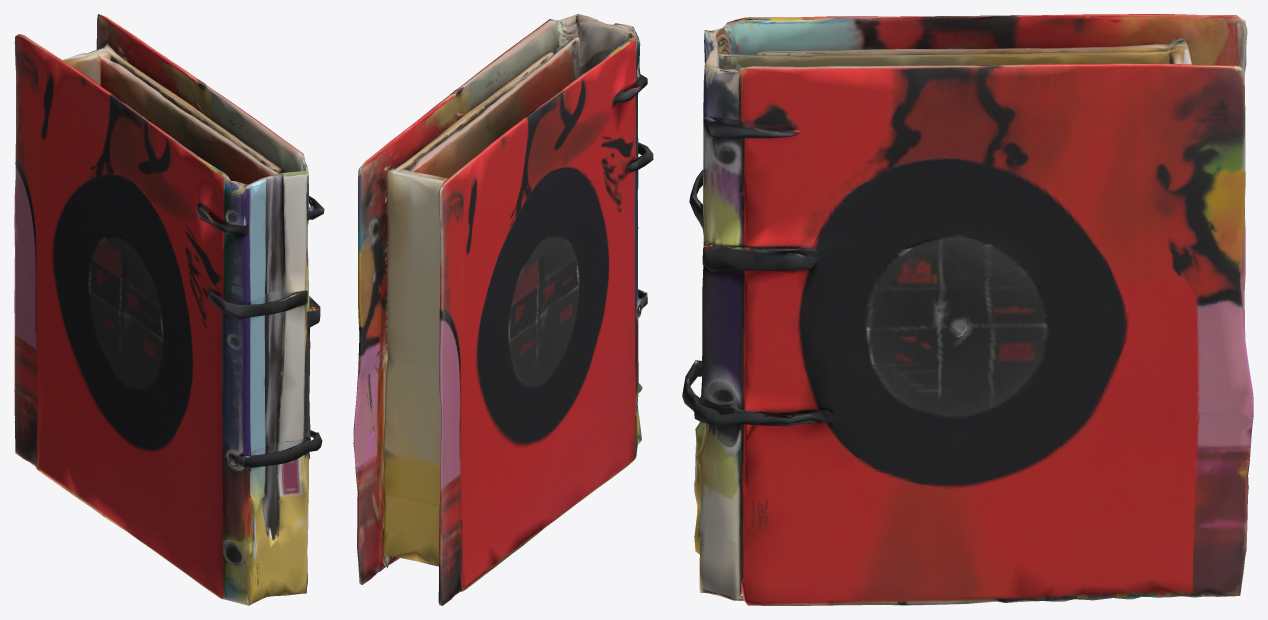
File: Vinyl_Art_Notebook_0523200443_texture.glb
The picture shows the model from 3 angles, left to right: view 1: azimuth 30°, elevation 25°; view 2: azimuth 150°, elevation 25°; view 3: azimuth 270°, elevation 25°; orthographic projection. The views are drawn at different scales.
Bounding box in the file's own units: 0.4951 × 1.98 × 1.9.
1 material, 1 textured.
